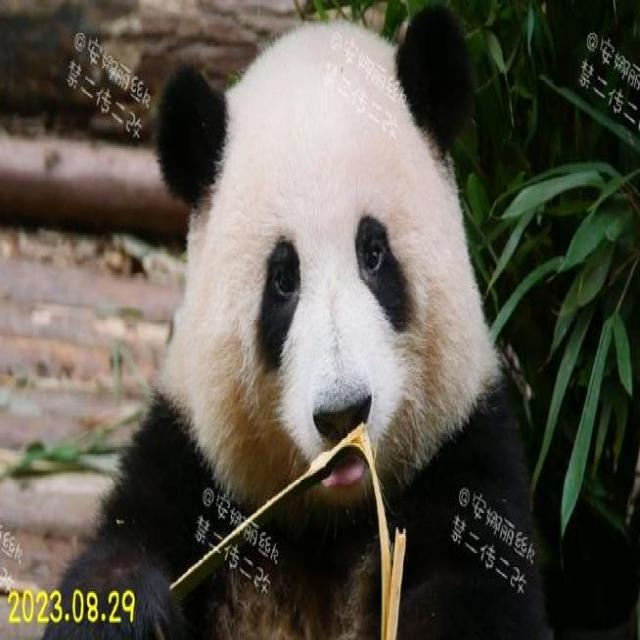panda: (100, 11, 519, 635)
